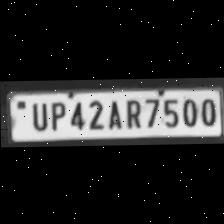0: (178, 95, 198, 126), (196, 95, 216, 126)
2: (84, 97, 104, 130)
4: (65, 97, 85, 130)
5: (158, 96, 180, 128)
7: (140, 97, 160, 128)
A: (102, 96, 122, 130)
P: (46, 99, 66, 131)
R: (121, 96, 141, 130)
U: (27, 100, 49, 132)
